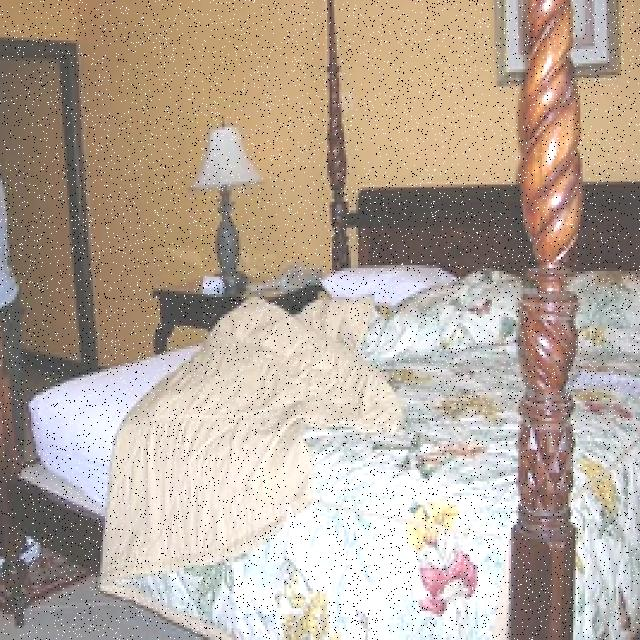bed: (24, 259, 640, 640)
